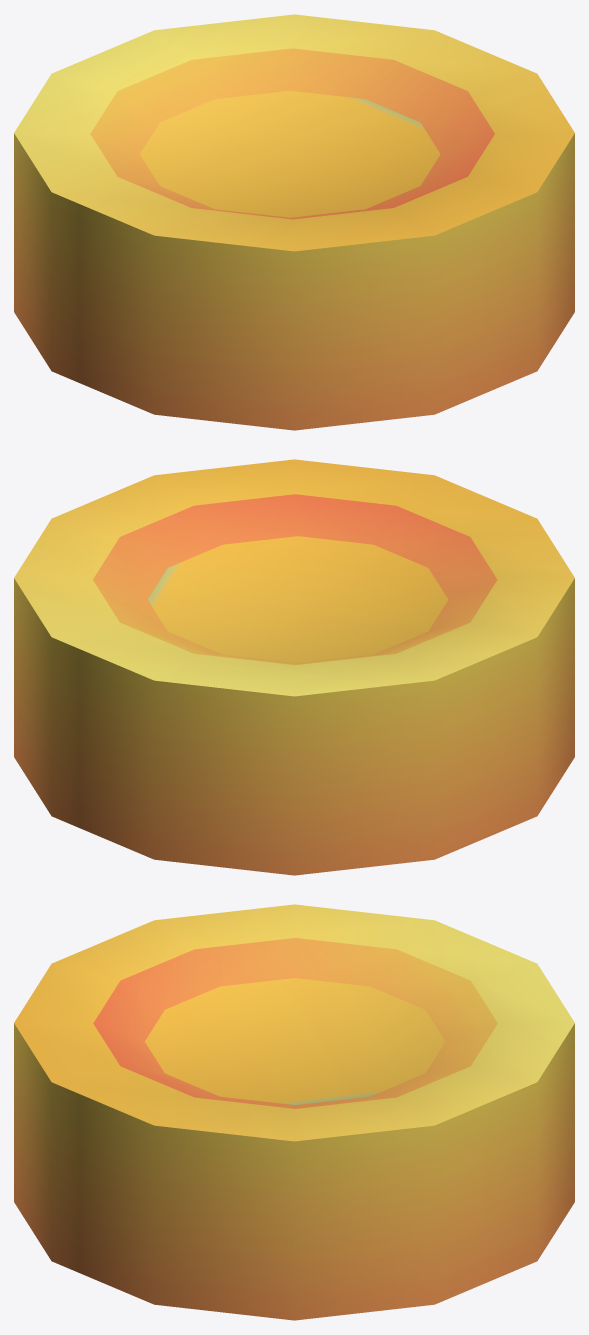
The model's file is Loot_Coin_v01.fbx.
The picture shows the model from 3 angles, top to bottom: view 1: azimuth 30°, elevation 25°; view 2: azimuth 150°, elevation 25°; view 3: azimuth 270°, elevation 25°; orthographic projection.
Visible parts, largest first — view 1: Loot_Coin; view 2: Loot_Coin; view 3: Loot_Coin.
Part boxes in pixels (x1,y1,x2,y2): Loot_Coin: (14,14,574,430); Loot_Coin: (14,459,574,875); Loot_Coin: (14,904,574,1320).
Bounding box in the file's own units: 57.51 × 20.26 × 57.51.
